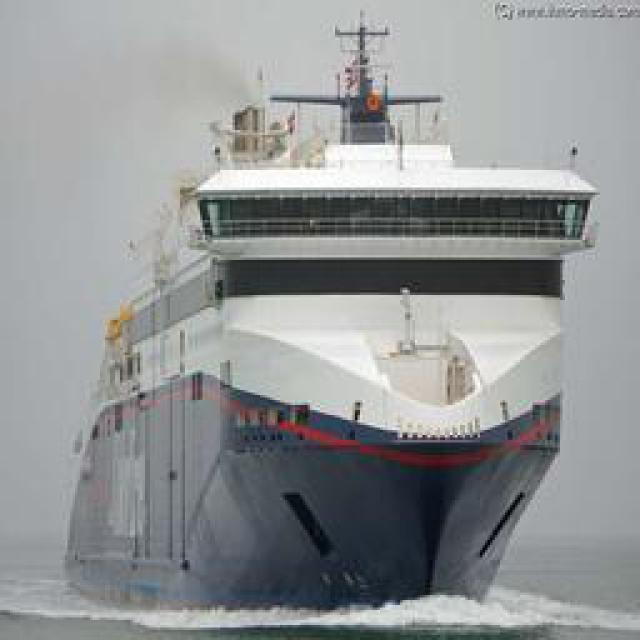Ship: (62, 225, 592, 608)
